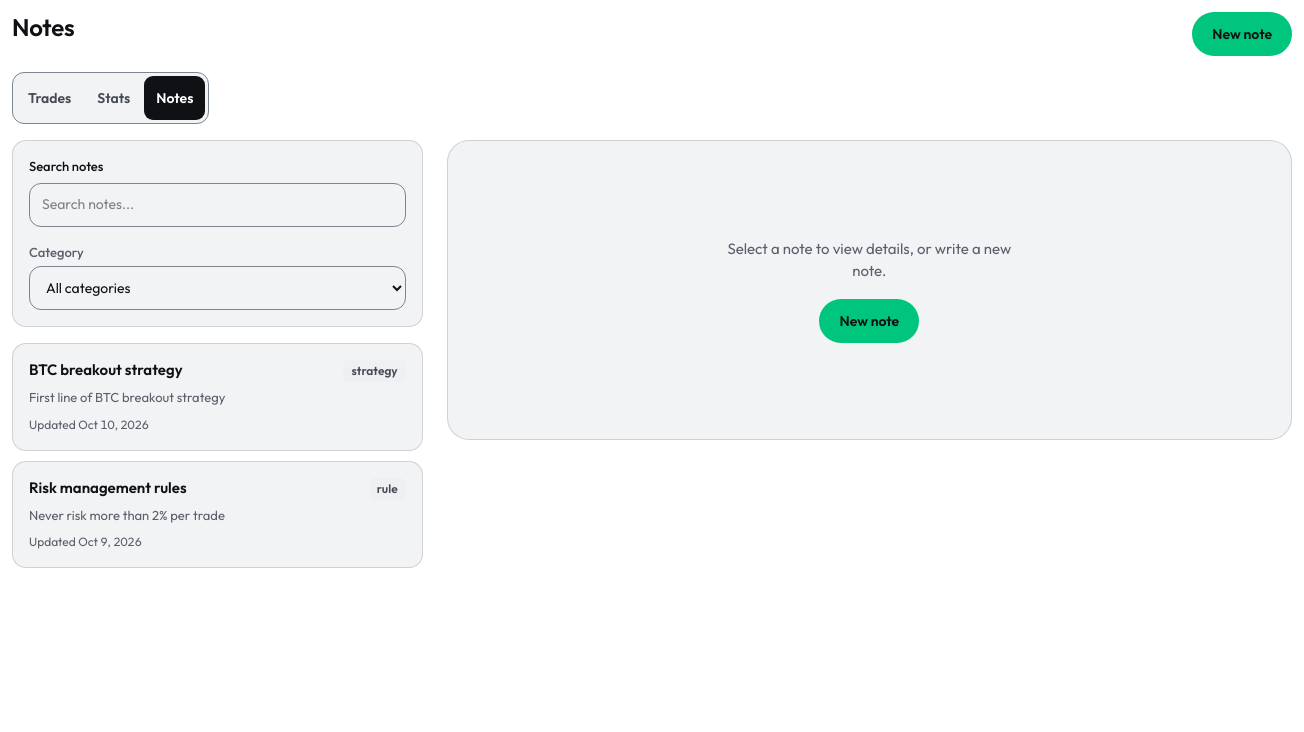
Test: NotesScreen › selecting a row shows the detail in the right column
// Row 1 click
Click the button with aria-label "Open note: BTC breakout strategy" at (217, 397), box [12,343,423,450]
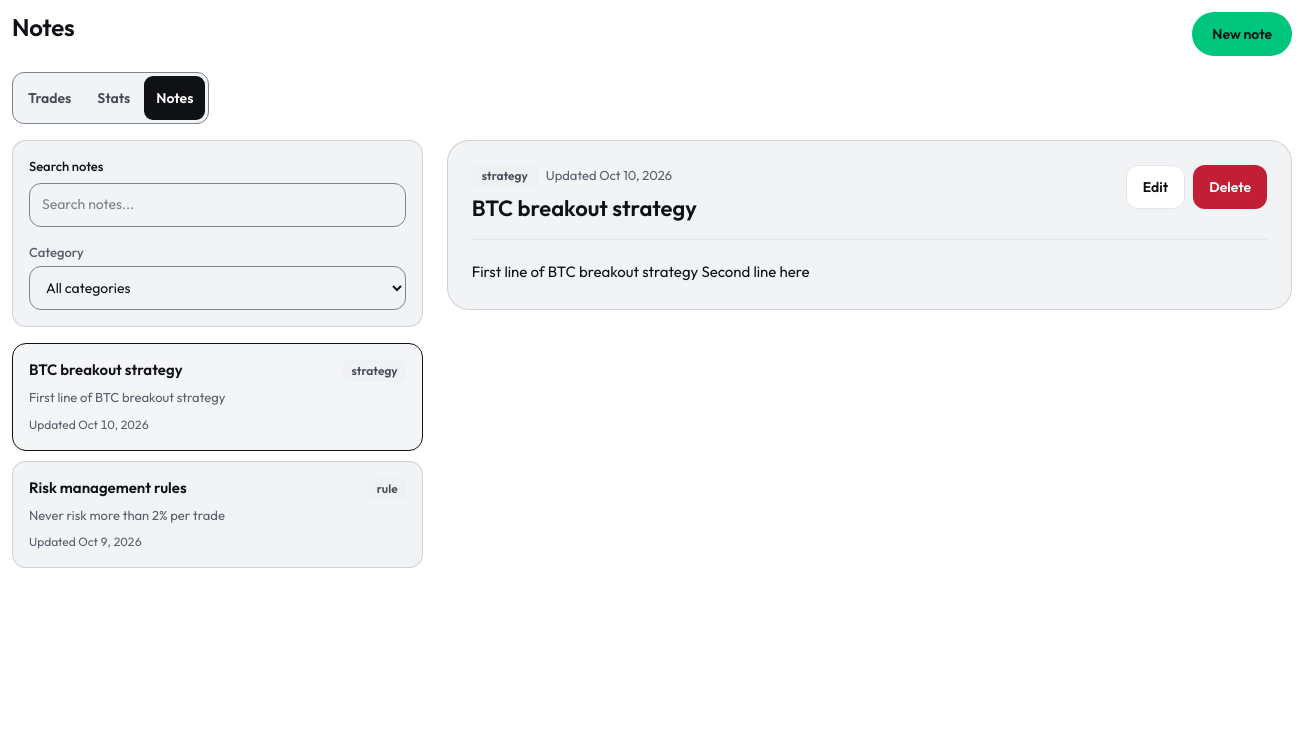
Expected: the element with test id "note-detail" is shown, [447,140,1292,310]
Expected: the 1st heading "BTC breakout strategy" is shown, [472,194,697,222]
